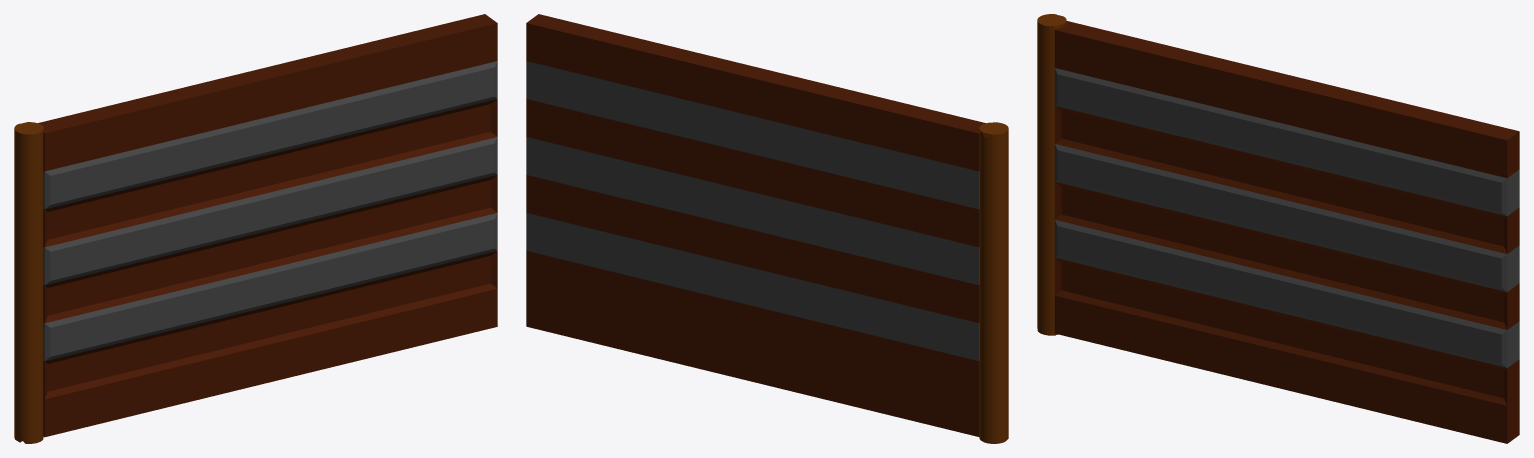
Rendered from PorteVillageGauche.fbx.
3 renders of one model, left to right at view 1: azimuth 30°, elevation 25°; view 2: azimuth 150°, elevation 25°; view 3: azimuth 330°, elevation 25°, orthographic.
Parts seen in each view (by area): view 1: Porte Gauche; view 2: Porte Gauche; view 3: Porte Gauche.
Boxes of the visible parts, box(x1,y1,x2,y2) form: Porte Gauche: box(14, 14, 497, 443); Porte Gauche: box(526, 14, 1008, 443); Porte Gauche: box(1037, 14, 1519, 443).
Bounding box in the file's own units: 557 × 347 × 30.68.
